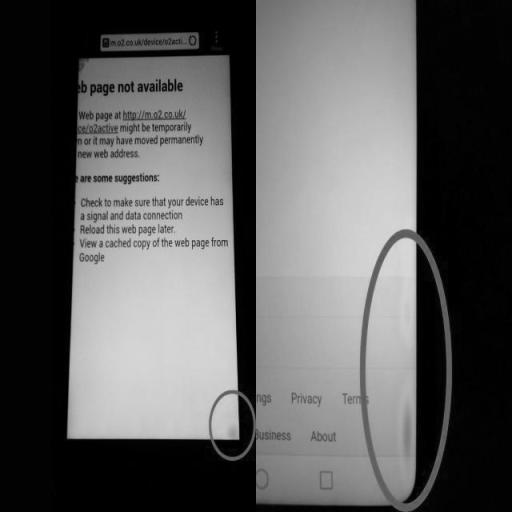phone: (248, 0, 425, 511), (43, 17, 251, 450)
